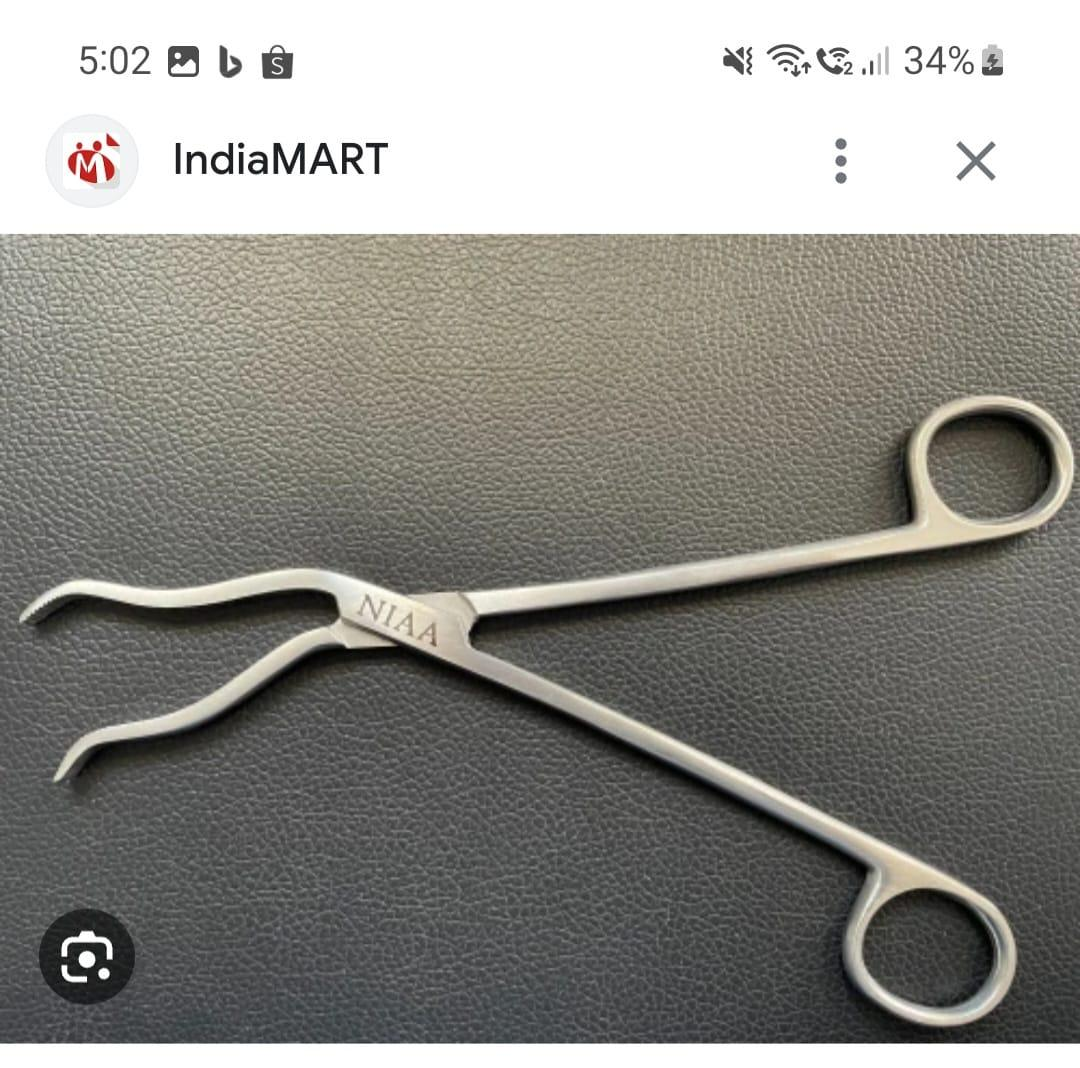Cheatle Forceps: (23, 392, 1080, 1035)
